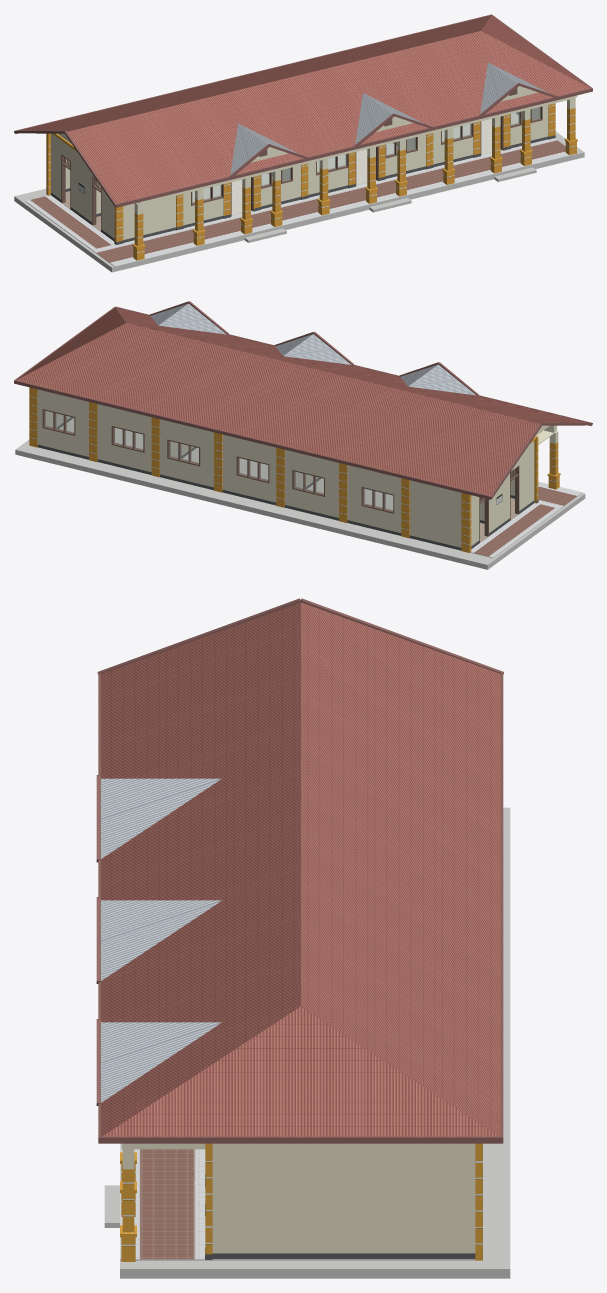
The model's file is gedung_kelas_perhotelan.glb.
3 renders of one model, top to bottom at view 1: azimuth 30°, elevation 25°; view 2: azimuth 150°, elevation 25°; view 3: azimuth 270°, elevation 25°, orthographic. The views are drawn at different scales.
Visible parts, largest first — view 1: Atap_Seng_Terakota_Perhotelan, Dinding_Krem_Perhotelan, Lantai_Teras_Jalur_Coklat, Pilaster_Dan_Tiang_Kunyit, Lisplang_CoklatMarun_Atap, Apron_Beton_Perhotelan, Atap_Gable_Seng_Silver, Kusen_Kayu_Pintu_Jendela, Lantai_3_Kelas_Kosong, Kaca_Jendela_Transparan, Plint_Keramik_Hitam; view 2: Atap_Seng_Terakota_Perhotelan, Dinding_Krem_Perhotelan, Apron_Beton_Perhotelan, Pilaster_Dan_Tiang_Kunyit, Lisplang_CoklatMarun_Atap, Atap_Gable_Seng_Silver, Kusen_Kayu_Pintu_Jendela, Kaca_Jendela_Transparan, Lantai_Teras_Jalur_Coklat, Plint_Keramik_Hitam, Lantai_3_Kelas_Kosong; view 3: Atap_Seng_Terakota_Perhotelan, Dinding_Krem_Perhotelan, Atap_Gable_Seng_Silver, Apron_Beton_Perhotelan, Lisplang_CoklatMarun_Atap, Lantai_Teras_Jalur_Coklat, Pilaster_Dan_Tiang_Kunyit, Plint_Keramik_Hitam.
Boxes of the visible parts, x1,y1,x2,y2 form: Atap_Seng_Terakota_Perhotelan: (19, 15, 590, 203); Dinding_Krem_Perhotelan: (51, 86, 577, 239); Lantai_Teras_Jalur_Coklat: (25, 138, 575, 266); Pilaster_Dan_Tiang_Kunyit: (46, 103, 577, 260); Lisplang_CoklatMarun_Atap: (14, 14, 592, 207); Apron_Beton_Perhotelan: (14, 131, 584, 272); Atap_Gable_Seng_Silver: (230, 62, 547, 174); Kusen_Kayu_Pintu_Jendela: (61, 88, 542, 231); Lantai_3_Kelas_Kosong: (192, 113, 521, 215); Kaca_Jendela_Transparan: (192, 107, 540, 203); Plint_Keramik_Hitam: (51, 112, 555, 244); Atap_Seng_Terakota_Perhotelan: (16, 307, 586, 495); Dinding_Krem_Perhotelan: (37, 389, 558, 547); Apron_Beton_Perhotelan: (15, 440, 585, 569); Pilaster_Dan_Tiang_Kunyit: (29, 387, 560, 552); Lisplang_CoklatMarun_Atap: (14, 301, 592, 499); Atap_Gable_Seng_Silver: (150, 303, 475, 395); Kusen_Kayu_Pintu_Jendela: (42, 409, 519, 542); Kaca_Jendela_Transparan: (44, 410, 393, 511); Lantai_Teras_Jalur_Coklat: (470, 481, 582, 557); Plint_Keramik_Hitam: (37, 417, 538, 550); Lantai_3_Kelas_Kosong: (59, 418, 393, 510); Atap_Seng_Terakota_Perhotelan: (101, 602, 500, 1136); Dinding_Krem_Perhotelan: (121, 1143, 475, 1253); Atap_Gable_Seng_Silver: (101, 778, 221, 1102); Apron_Beton_Perhotelan: (104, 807, 510, 1278); Lisplang_CoklatMarun_Atap: (96, 598, 503, 1143); Lantai_Teras_Jalur_Coklat: (120, 1143, 210, 1260); Pilaster_Dan_Tiang_Kunyit: (120, 1143, 482, 1261); Plint_Keramik_Hitam: (205, 1174, 475, 1259).
Bounding box in the file's own units: 24.86 × 5.4 × 9.33.
13 materials, 7 textured.
